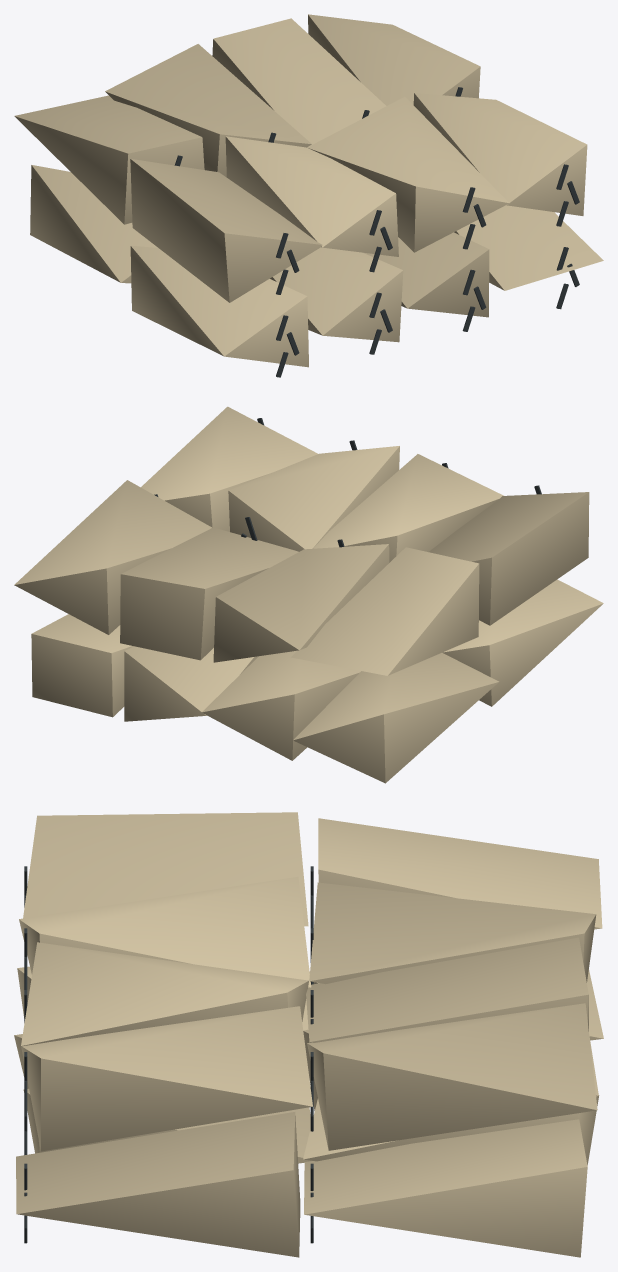
Rendered from JPN-08-LOD1.glb.
3 views of the same model, one above another, from view 1: azimuth 30°, elevation 25°; view 2: azimuth 150°, elevation 25°; view 3: azimuth 270°, elevation 25° (orthographic). The views are drawn at different scales.
Visible parts, largest first — view 1: hand-shaped masonry.008, hand-shaped masonry.012, hand-shaped masonry.010, hand-shaped masonry, hand-shaped masonry.014, hand-shaped masonry.009, hand-shaped masonry.013, hand-shaped masonry.011, hand-shaped masonry.015, hand-shaped masonry.002, hand-shaped masonry.001, hand-shaped masonry.006 (+1 smaller); view 2: hand-shaped masonry.009, hand-shaped masonry.001, hand-shaped masonry.015, hand-shaped masonry.013, hand-shaped masonry.011, hand-shaped masonry.008, hand-shaped masonry.012, hand-shaped masonry.010, hand-shaped masonry.014, hand-shaped masonry.003, hand-shaped masonry, hand-shaped masonry.007 (+1 smaller); view 3: hand-shaped masonry.015, hand-shaped masonry.014, hand-shaped masonry.006, hand-shaped masonry.007, hand-shaped masonry.008, hand-shaped masonry.010, hand-shaped masonry.012, hand-shaped masonry.011, hand-shaped masonry.013, hand-shaped masonry.009, hand-shaped masonry.005, hand-shaped masonry.004 (+1 smaller).
Boxes of the visible parts, x1,y1,x2,y2 form: hand-shaped masonry.008: (130,159,322,302); hand-shaped masonry.012: (307,96,509,252); hand-shaped masonry.010: (225,136,398,256); hand-shaped masonry: (130,245,308,367); hand-shaped masonry.014: (413,93,587,215); hand-shaped masonry.009: (14,95,204,224); hand-shaped masonry.013: (212,18,386,147); hand-shaped masonry.011: (105,44,311,177); hand-shaped masonry.015: (308,14,480,105); hand-shaped masonry.002: (270,247,403,342); hand-shaped masonry.001: (30,165,157,283); hand-shaped masonry.006: (454,205,603,290); hand-shaped masonry.009: (291,547,479,675); hand-shaped masonry.001: (293,653,499,783); hand-shaped masonry.015: (14,480,211,634); hand-shaped masonry.013: (120,527,298,660); hand-shaped masonry.011: (213,544,389,662); hand-shaped masonry.008: (428,492,589,625); hand-shaped masonry.012: (228,446,399,551); hand-shaped masonry.010: (313,454,503,562); hand-shaped masonry.014: (141,406,317,531); hand-shaped masonry.003: (202,650,360,760); hand-shaped masonry: (442,579,603,706); hand-shaped masonry.007: (31,614,133,717); hand-shaped masonry.015: (307,1003,597,1150); hand-shaped masonry.014: (21,1006,312,1151); hand-shaped masonry.006: (16,1112,300,1257); hand-shaped masonry.007: (304,1119,587,1257); hand-shaped masonry.008: (23,812,308,926); hand-shaped masonry.010: (19,876,311,987); hand-shaped masonry.012: (21,942,308,1046); hand-shaped masonry.011: (309,882,596,984); hand-shaped masonry.013: (306,937,588,1042); hand-shaped masonry.009: (318,818,602,929); hand-shaped masonry.005: (303,1095,599,1165); hand-shaped masonry.004: (23,1088,311,1163).
Size of the model in its own units: 1.97 by 0.7784 by 1.94.
